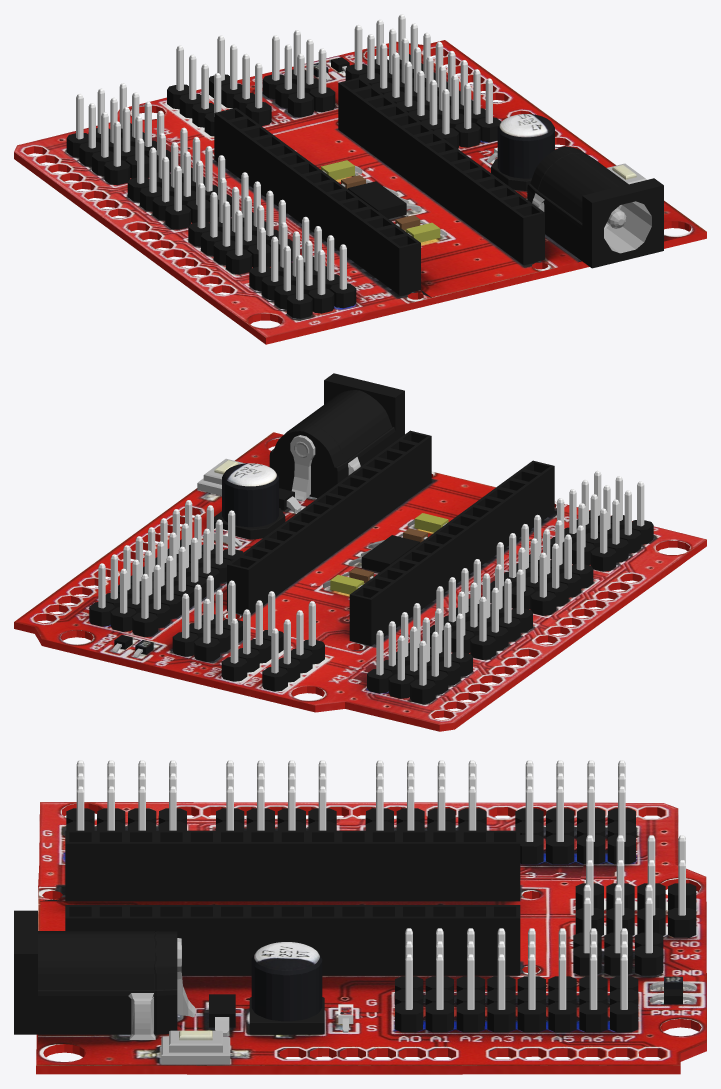
File: board1.glb
The picture shows the model from 3 angles, top to bottom: view 1: azimuth 30°, elevation 25°; view 2: azimuth 150°, elevation 25°; view 3: azimuth 270°, elevation 25°; orthographic projection. The views are drawn at different scales.
Parts seen in each view (by area): view 1: body.498; view 2: body.498; view 3: body.498.
Boxes of the visible parts, <box> form: body.498: <box>14,14,706,344</box>; body.498: <box>14,373,706,731</box>; body.498: <box>14,760,706,1074</box>.
Size of the model in its own units: 8.63 by 1.36 by 9.58.
Materials: 9 (3 with a texture image).
